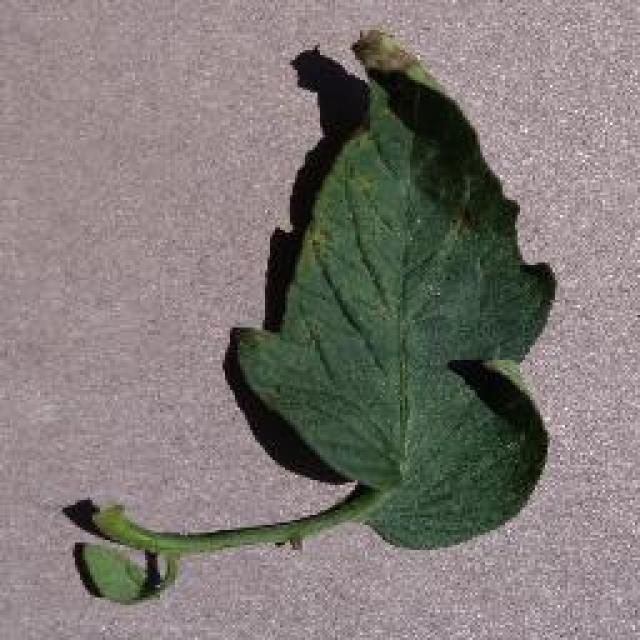Tomato___Septoria_leaf_spot: (80, 30, 555, 602)
